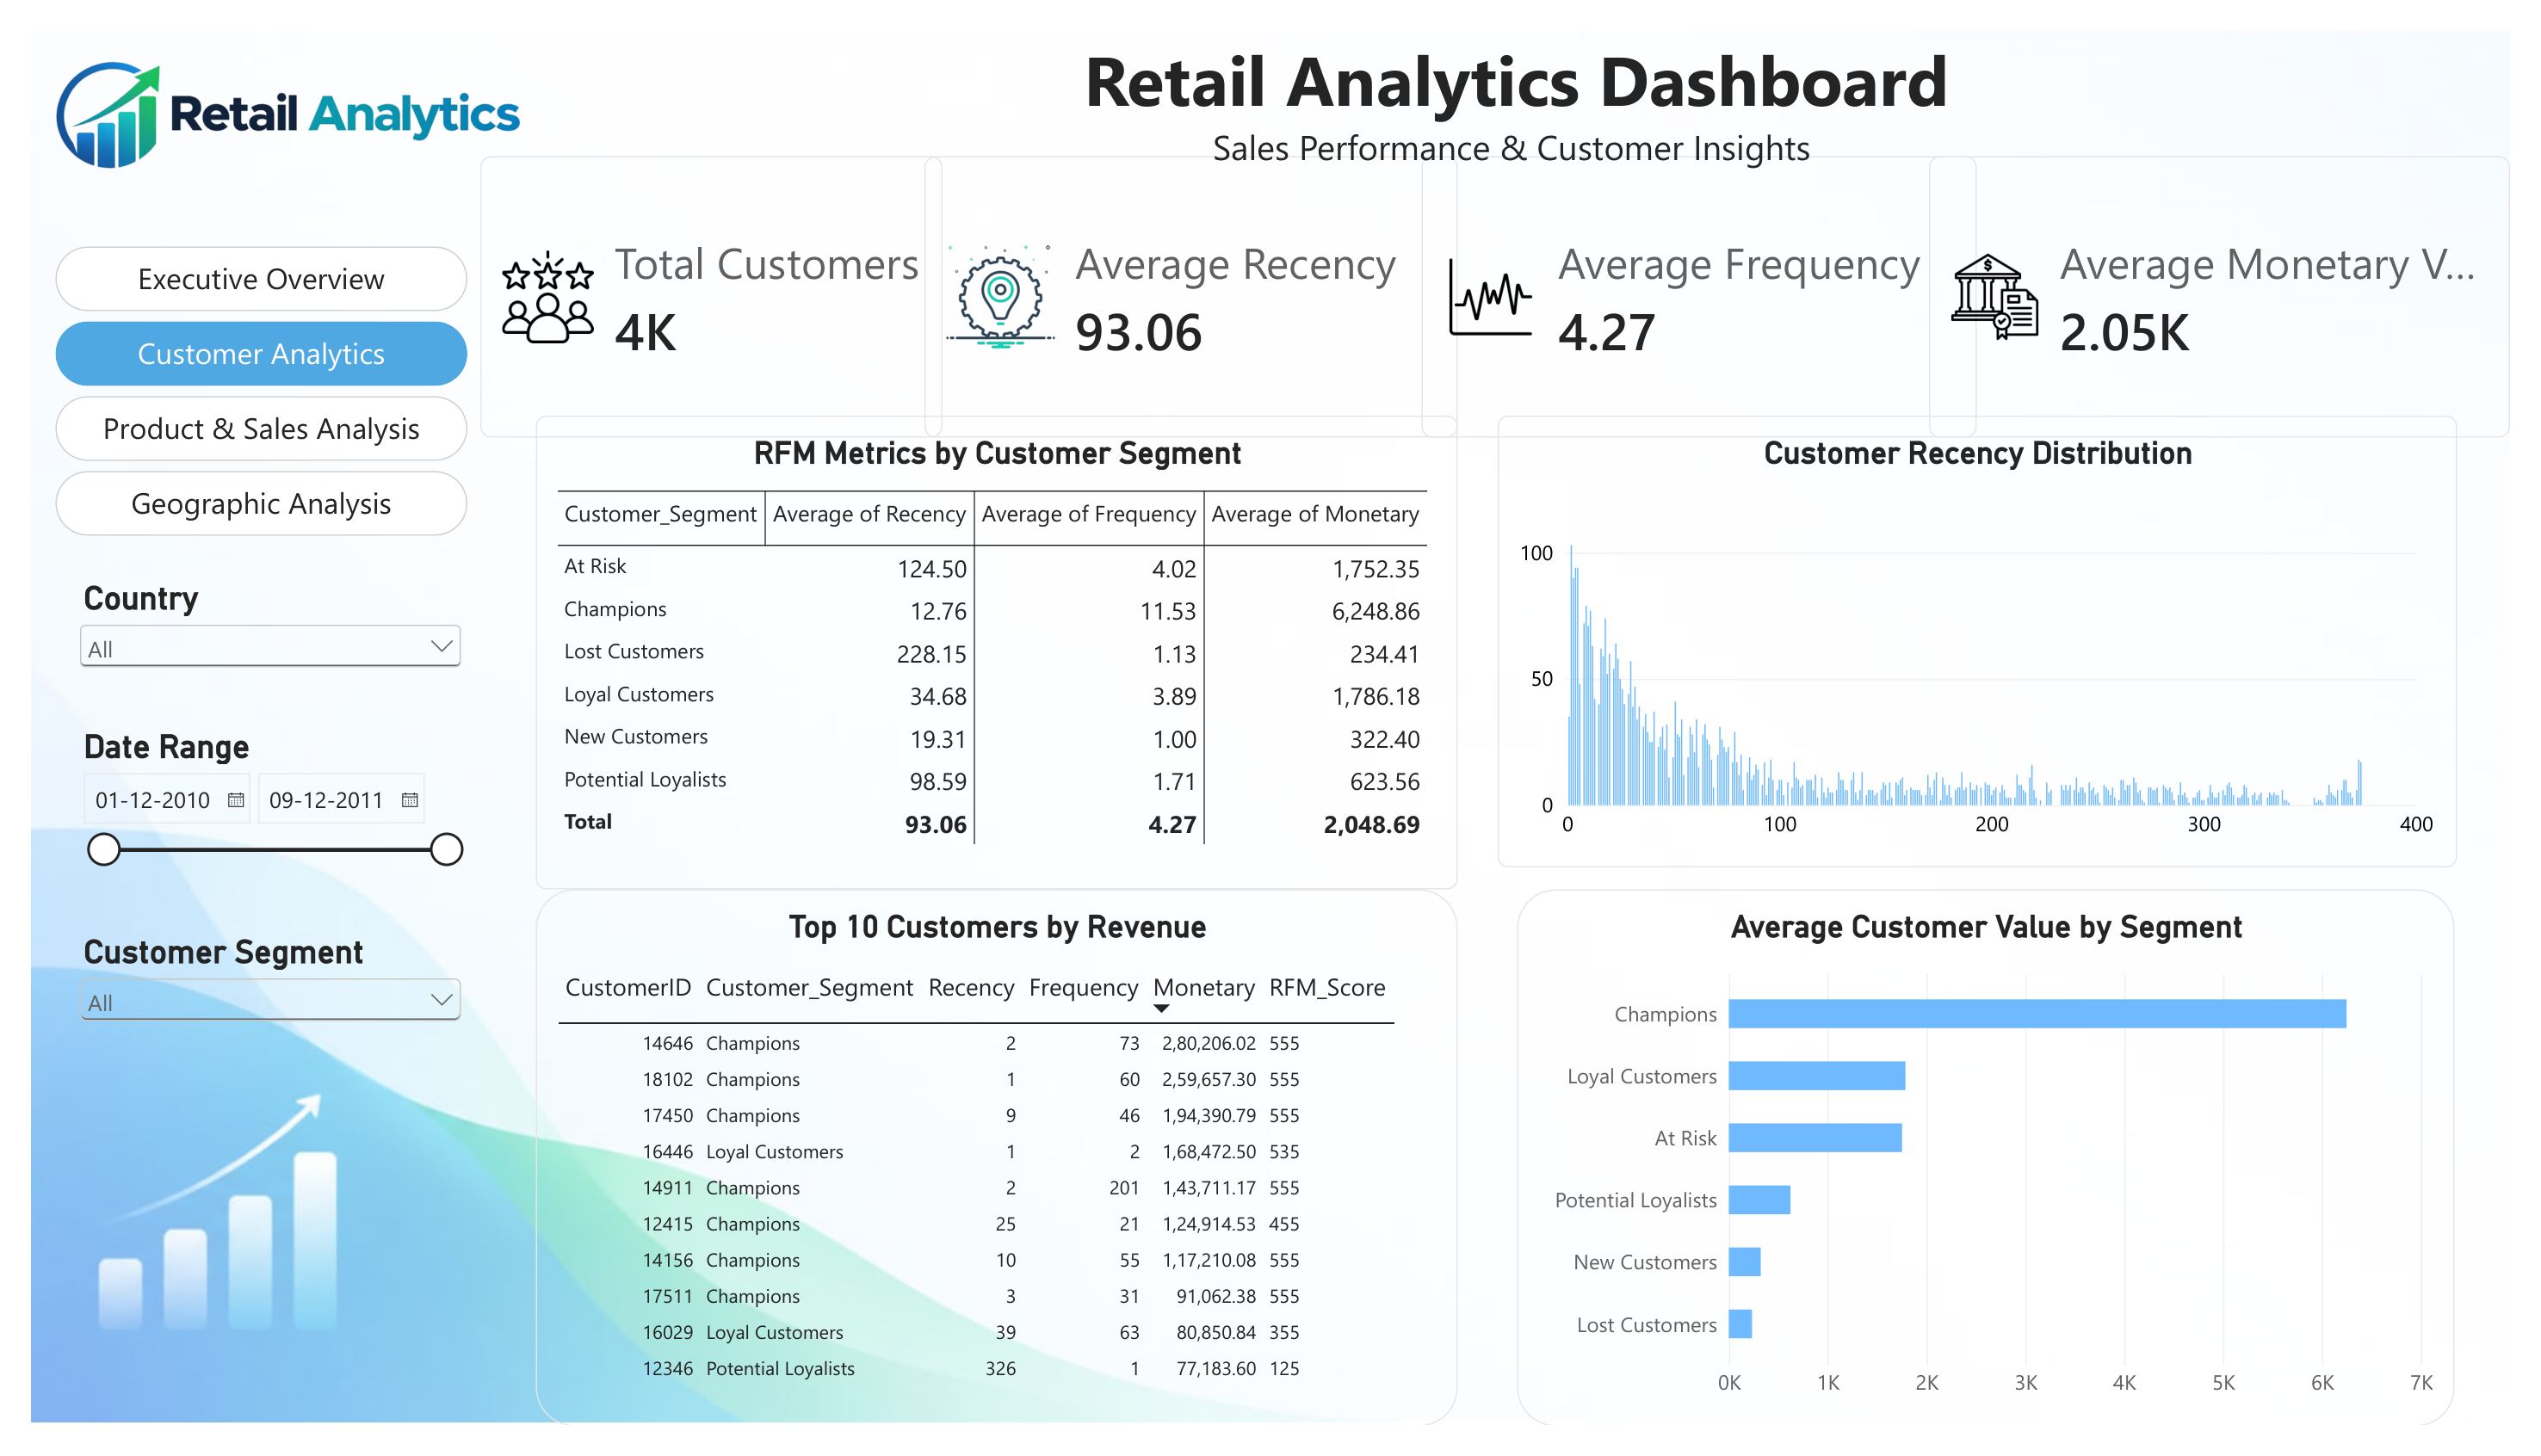

The page's visual inventory and layout, read from the dashboard file:
{"tool":"powerbi","page":{"name":"Customer Analytics","canvas":[1920,1080],"ordinal":1},"visuals":[{"type":"cardVisual","fields":{"Data":["Avg(CustomerSegmentation.Recency)"]},"box":[691.6,96.7,413.7,218.2],"z":0},{"type":"cardVisual","fields":{"Data":["Avg(CustomerSegmentation.Frequency)"]},"box":[1076.5,96.7,430.2,218.2],"z":1000},{"type":"cardVisual","fields":{"Data":["RetailTransactions.Total Customers"]},"box":[347.9,96.7,358.1,218.2],"z":2000},{"type":"cardVisual","fields":{"Data":["Avg(CustomerSegmentation.Monetary)"]},"box":[1469.6,96.7,450.8,218.2],"z":3000},{"type":"tableEx","title":"Top 10 Customers by Revenue","fields":{"Values":["CustomerSegmentation.CustomerID","CustomerSegmentation.Customer_Segment","CustomerSegmentation.Recency","CustomerSegmentation.Frequency","CustomerSegmentation.Monetary","CustomerSegmentation.RFM_Score"]},"box":[391.1,664.8,714.2,415.8],"z":4000},{"type":"clusteredBarChart","title":"Average Customer Value by Segment","fields":{"Category":["CustomerSegmentation.Customer_Segment"],"Y":["Avg(CustomerSegmentation.Monetary)"]},"box":[1150.6,664.8,726.6,415.8],"z":5000},{"type":"image","box":[0,0,391.1,146.1],"z":6000},{"type":"textbox","box":[424,0,1453.2,115.3],"z":7000},{"type":"slicer","fields":{"Values":["RetailTransactions.Country"]},"box":[32.9,424,304.6,115.3],"z":8000},{"type":"slicer","fields":{"Values":["RetailTransactions.InvoiceDate"]},"box":[32.9,539.3,304.6,251.1],"z":9000},{"type":"slicer","fields":{"Values":["CustomerSegmentation.Customer_Segment"]},"box":[32.9,697.8,304.6,131.7],"z":10000},{"type":"pivotTable","title":"RFM Metrics by Customer Segment","fields":{"Rows":["CustomerSegmentation.Customer_Segment"],"Values":["Avg(CustomerSegmentation.Recency)","Avg(CustomerSegmentation.Frequency)","Avg(CustomerSegmentation.Monetary)"]},"box":[391.1,298.5,714.2,366.4],"z":11000},{"type":"columnChart","title":"Customer Recency Distribution","fields":{"Category":["CustomerSegmentation.Recency"],"Y":["CountNonNull(CustomerSegmentation.CustomerID)"]},"box":[1136.2,298.5,743.1,349.9],"z":12000},{"type":"pageNavigator","box":[18.5,166.7,319,226.4],"z":13000}]}

Visuals, with their boxes in screenshot pixels (x1, y1, x2, y2), scaled from the page's 1920x1080 canvas onto the 2541x1456 screenshot:
cardVisual - Avg(CustomerSegmentation.Recency): bbox=(915, 130, 1462, 424)
cardVisual - Avg(CustomerSegmentation.Frequency): bbox=(1425, 130, 1994, 424)
cardVisual - RetailTransactions.Total Customers: bbox=(461, 130, 934, 424)
cardVisual - Avg(CustomerSegmentation.Monetary): bbox=(1945, 130, 2540, 424)
"Top 10 Customers by Revenue" tableEx: bbox=(517, 897, 1462, 1455)
"Average Customer Value by Segment" clusteredBarChart: bbox=(1523, 897, 2484, 1455)
image: bbox=(0, 0, 517, 197)
textbox: bbox=(561, 0, 2484, 156)
slicer - RetailTransactions.Country: bbox=(44, 571, 447, 727)
slicer - RetailTransactions.InvoiceDate: bbox=(44, 727, 447, 1065)
slicer - CustomerSegmentation.Customer_Segment: bbox=(44, 941, 447, 1119)
"RFM Metrics by Customer Segment" pivotTable: bbox=(517, 403, 1462, 897)
"Customer Recency Distribution" columnChart: bbox=(1504, 403, 2487, 874)
pageNavigator: bbox=(24, 225, 447, 530)
